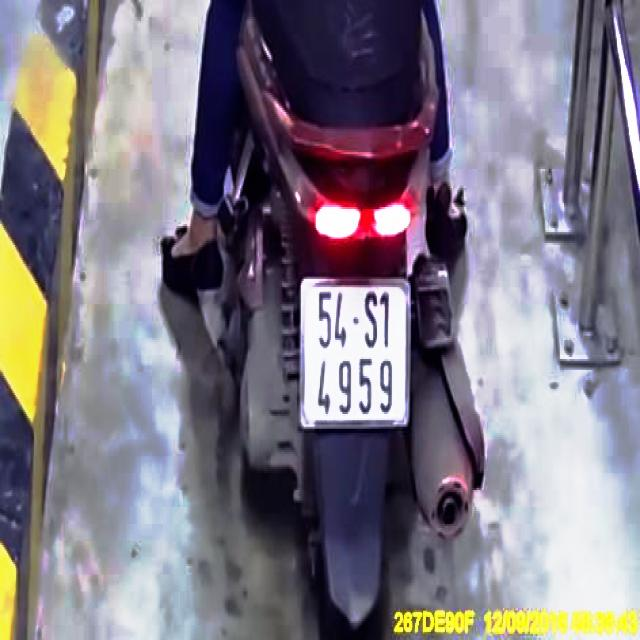license_plate: (301, 283, 412, 427)
